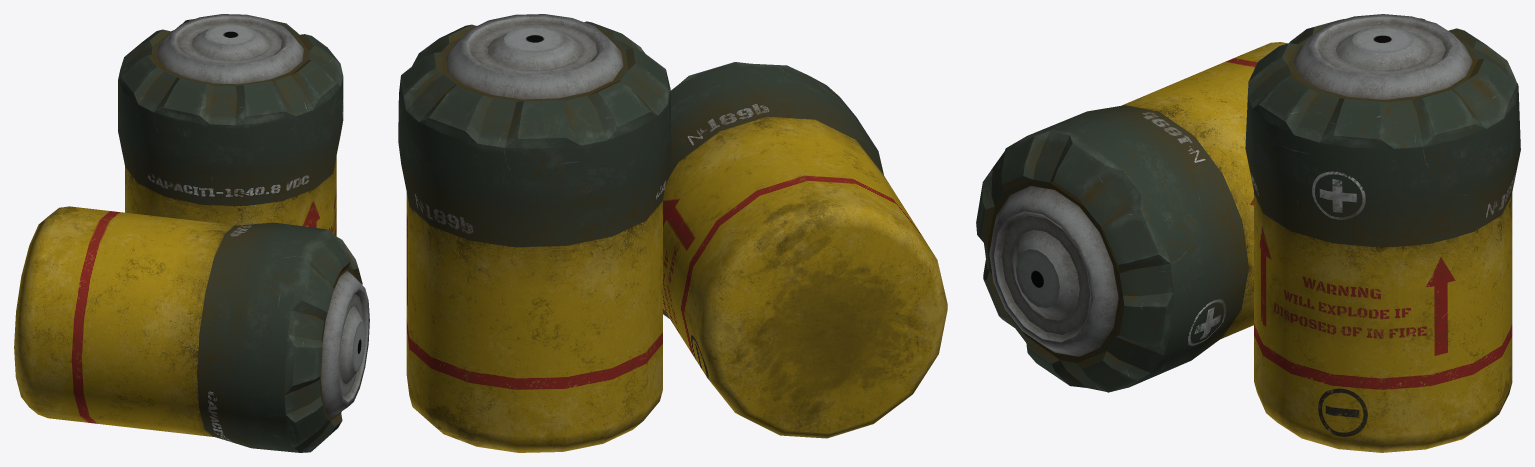
The model's file is battery_fallout.glb.
3 renders of one model, left to right at view 1: azimuth 30°, elevation 25°; view 2: azimuth 150°, elevation 25°; view 3: azimuth 270°, elevation 25°, orthographic. The views are drawn at different scales.
Visible parts, largest first — view 1: polySurface26_low1, polySurface26_low, polySurface28_low; view 2: polySurface26_low, polySurface26_low1, polySurface28_low; view 3: polySurface26_low, polySurface26_low1, polySurface28_low.
Boxes of the visible parts, box(x1,y1,x2,y2) form: polySurface26_low1: box(14, 206, 369, 452); polySurface26_low: box(118, 19, 343, 236); polySurface28_low: box(157, 14, 303, 84); polySurface26_low: box(398, 21, 671, 452); polySurface26_low1: box(663, 62, 947, 438); polySurface28_low: box(446, 14, 623, 99); polySurface26_low: box(1245, 18, 1520, 452); polySurface26_low1: box(976, 42, 1287, 392); polySurface28_low: box(1293, 14, 1472, 99).
Size of the model in its own units: 0.1426 by 0.1122 by 0.1487.
1 material, 1 textured.
